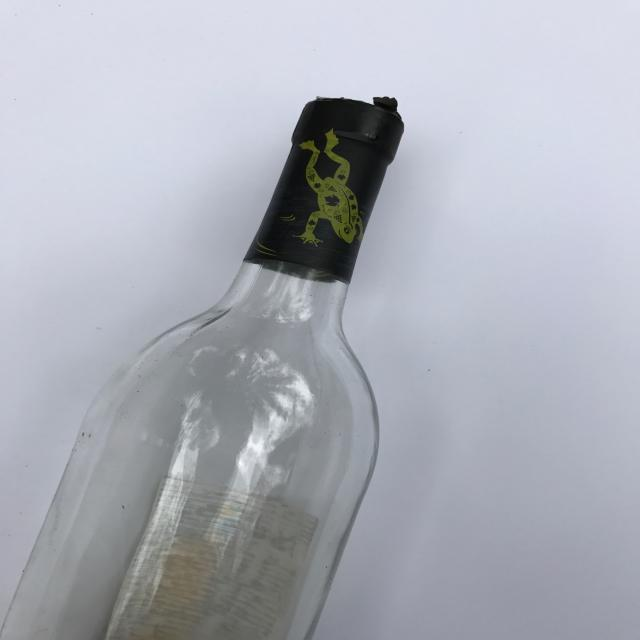glass: (8, 96, 404, 640)
